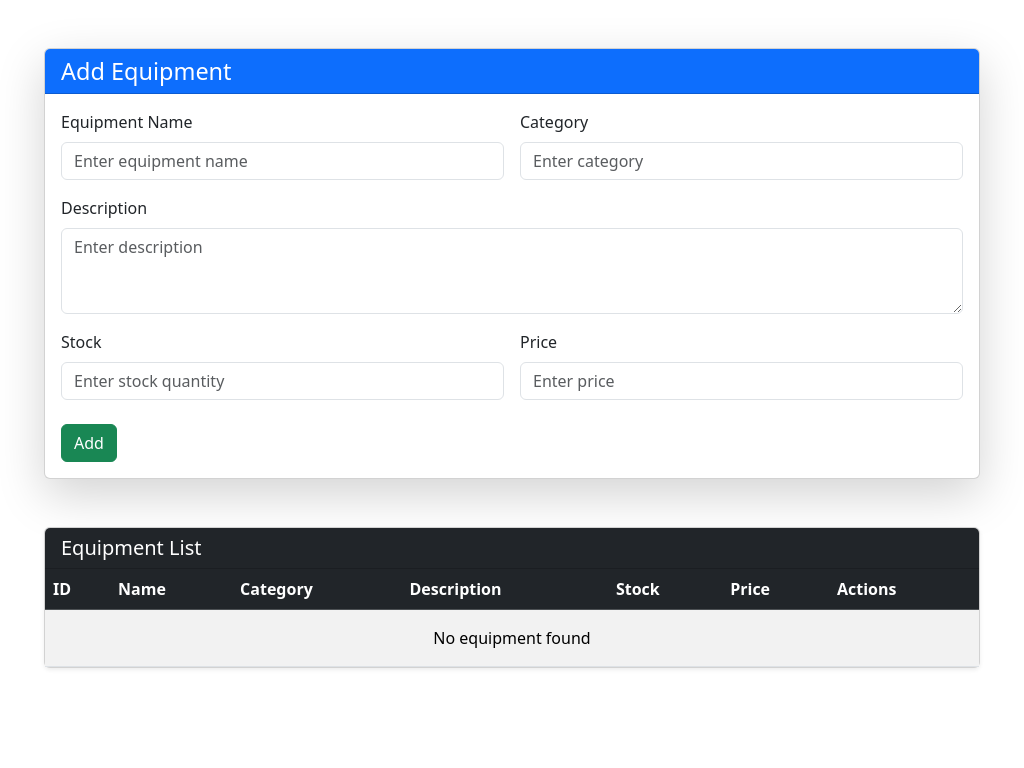
Test: EquipmentForm › 4. shows validation error if stock is negative
Type "-5" into the number field with placeholder "Enter stock quantity" at (282, 381), box [61,362,504,400]
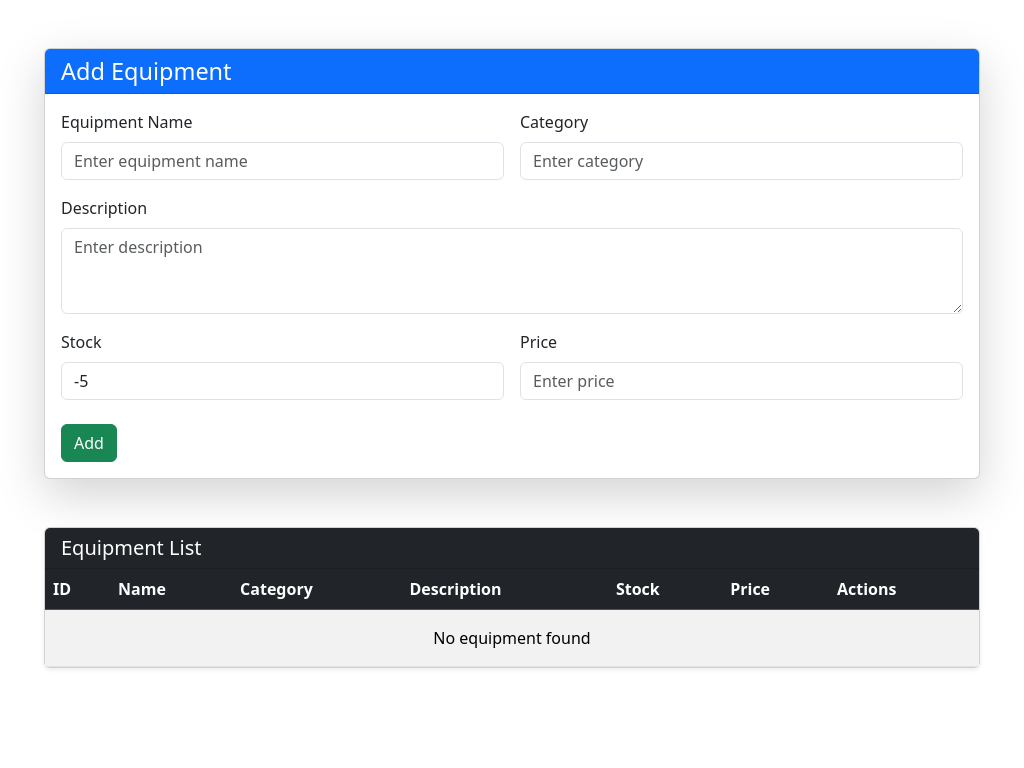
Click the button "Add" at (89, 443), box [61,424,117,462]
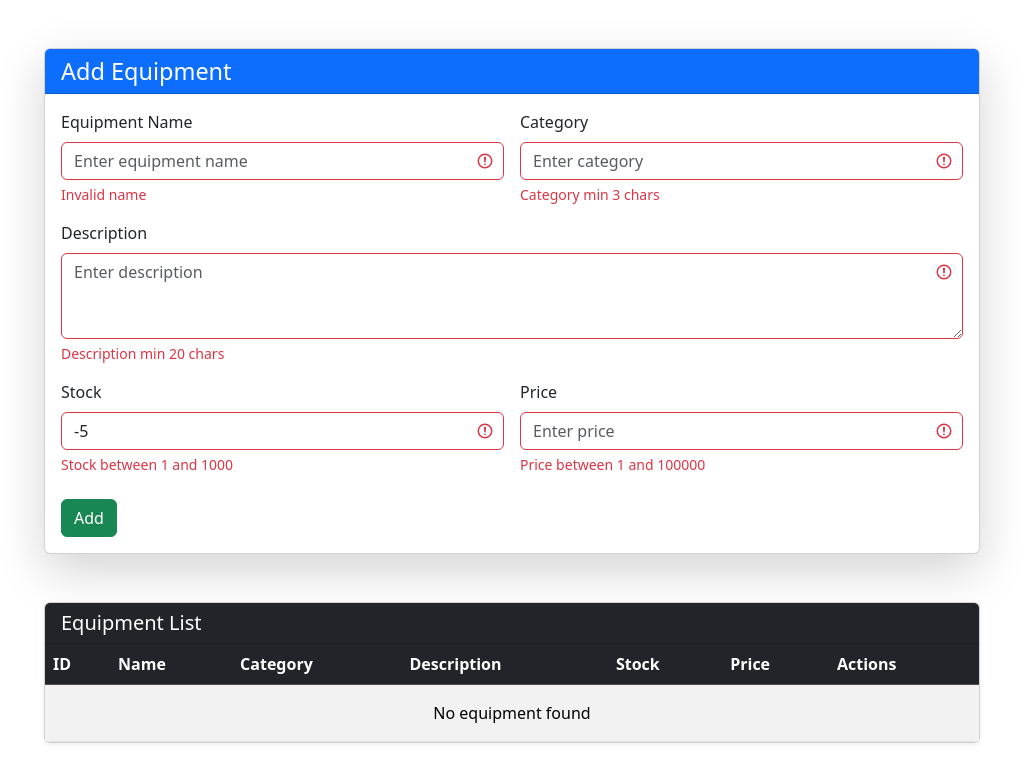
Expected: the text "Stock between 1 and 1000" is shown, [61,455,233,474]
